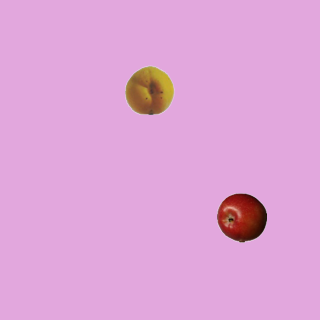Apple Braeburn: (216, 192, 266, 242)
Peach 2: (124, 64, 174, 114)
